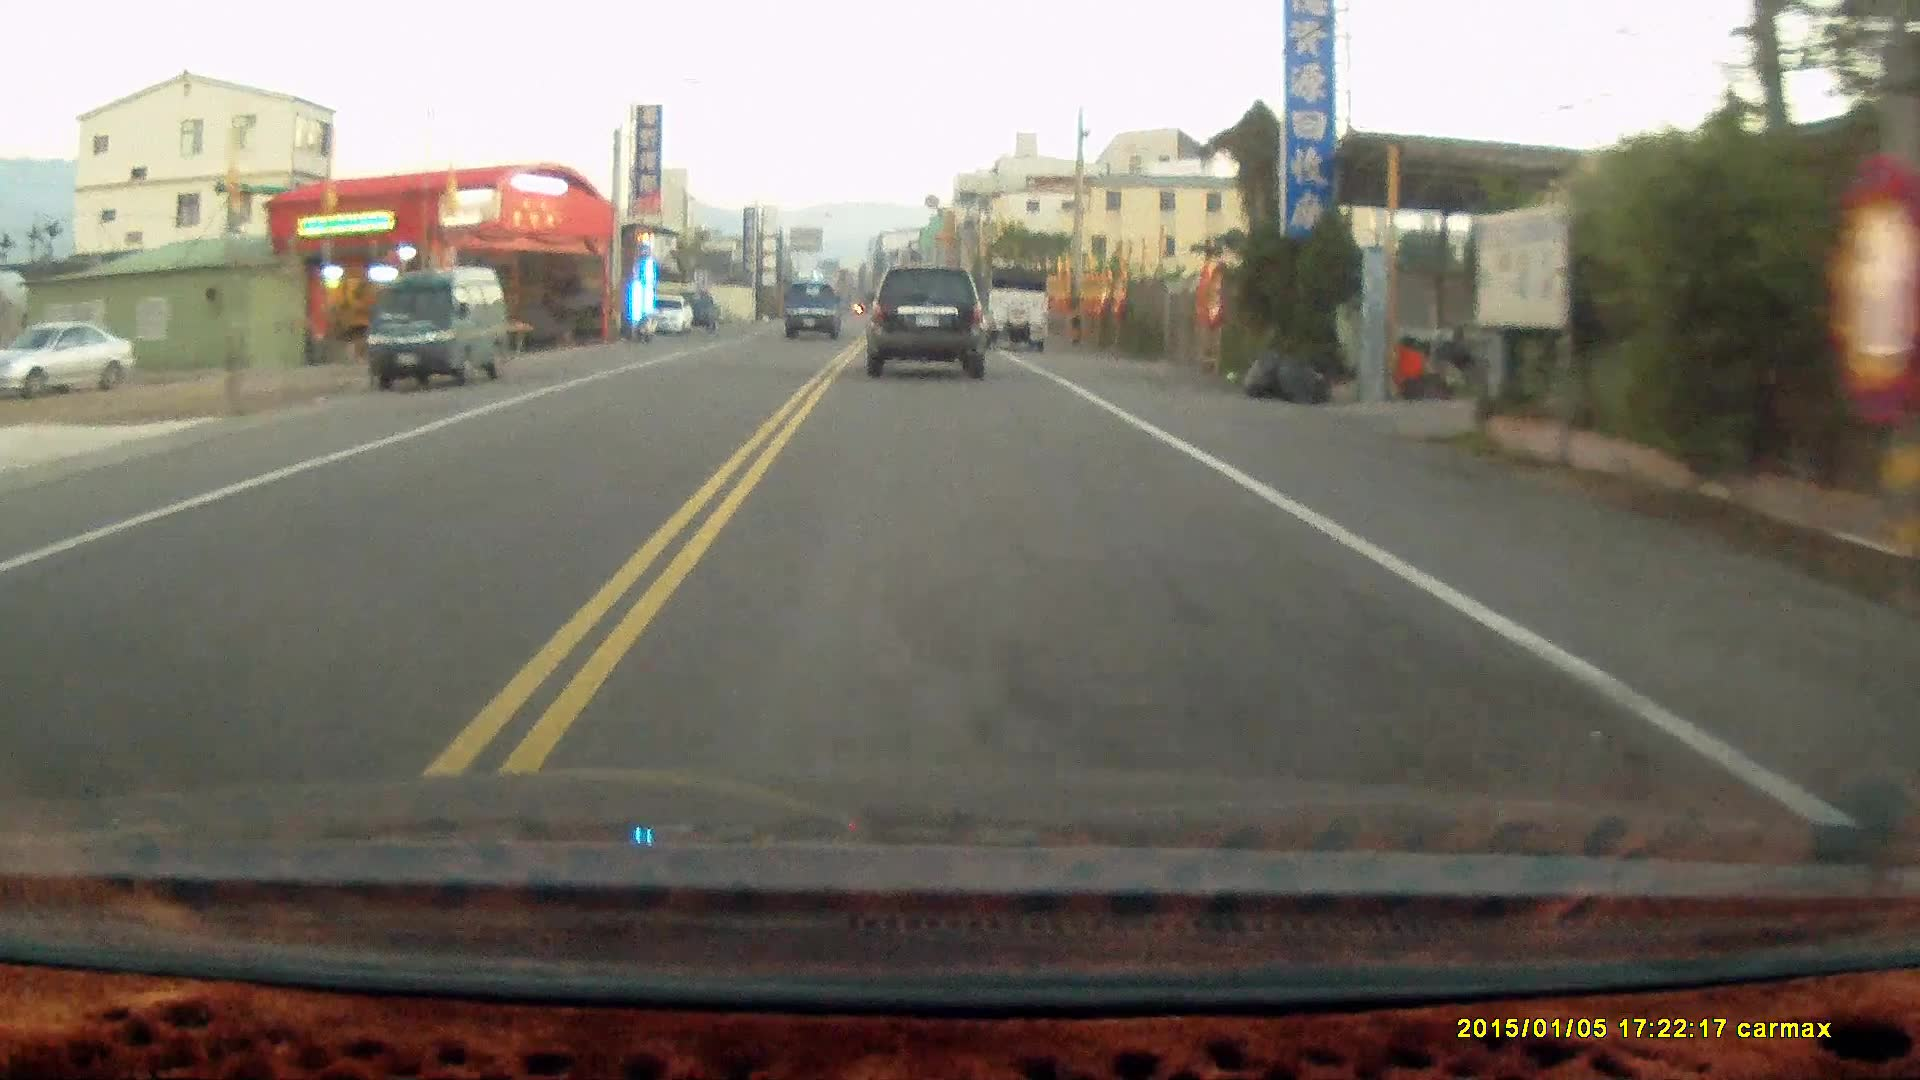vehicle: (364, 264, 513, 392), (868, 265, 988, 380), (0, 316, 132, 398), (967, 269, 1054, 355), (785, 284, 843, 344)
